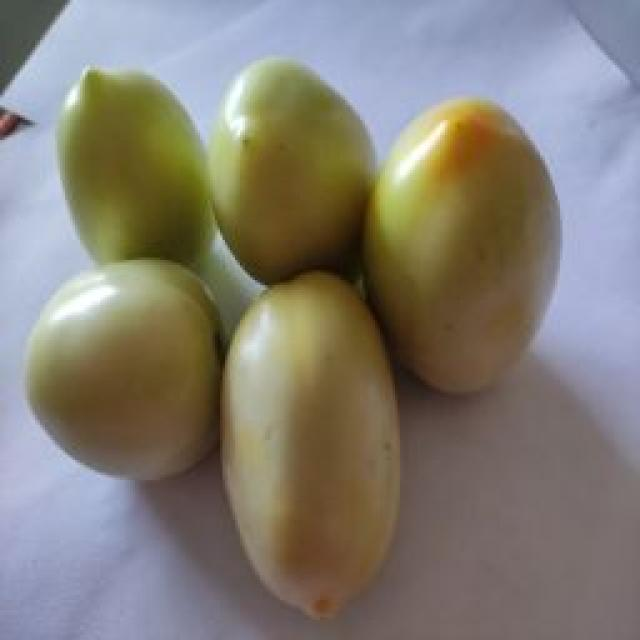tomato: (220, 272, 403, 618), (361, 94, 567, 395), (21, 256, 241, 482), (204, 58, 380, 289), (52, 64, 220, 269)
